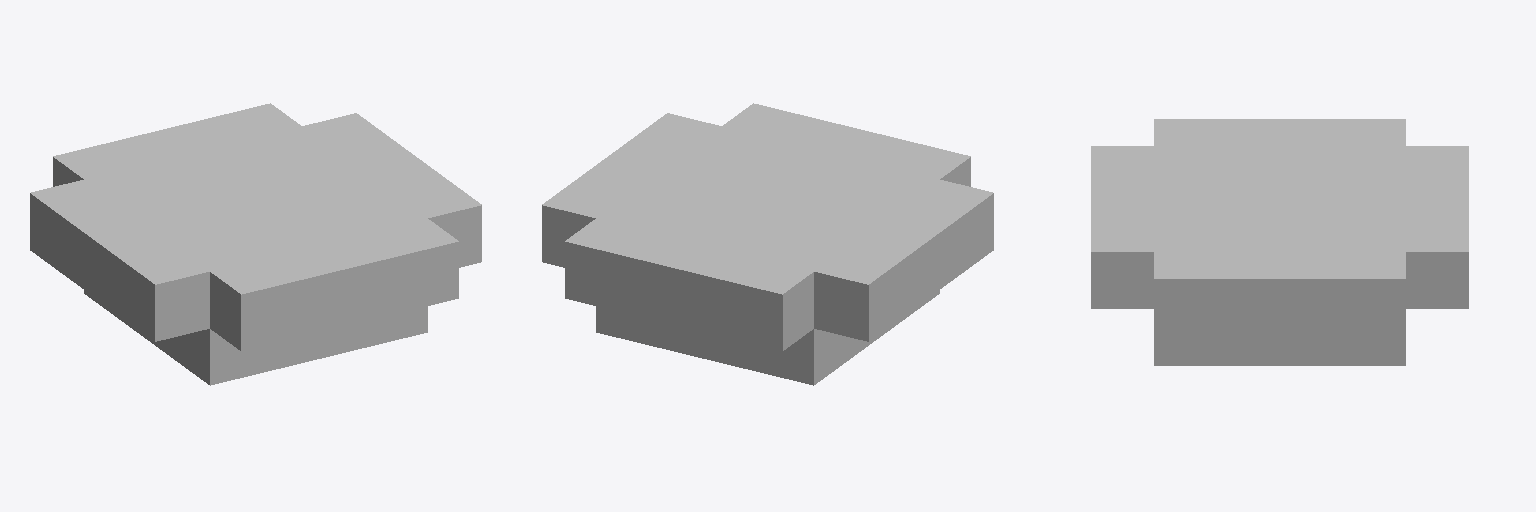
The model's file is Swarmer Radar.obj.
3 views of the same model, side by side, from view 1: azimuth 30°, elevation 25°; view 2: azimuth 150°, elevation 25°; view 3: azimuth 270°, elevation 25° (orthographic).
Parts seen in each view (by area): view 1: object 1; view 2: object 1; view 3: object 1.
Part boxes in pixels (x1,y1,x2,y2): object 1: (30, 103, 481, 385); object 1: (542, 103, 993, 385); object 1: (1091, 119, 1468, 365).
Bounding box in the file's own units: 0.6 × 0.2 × 0.6.